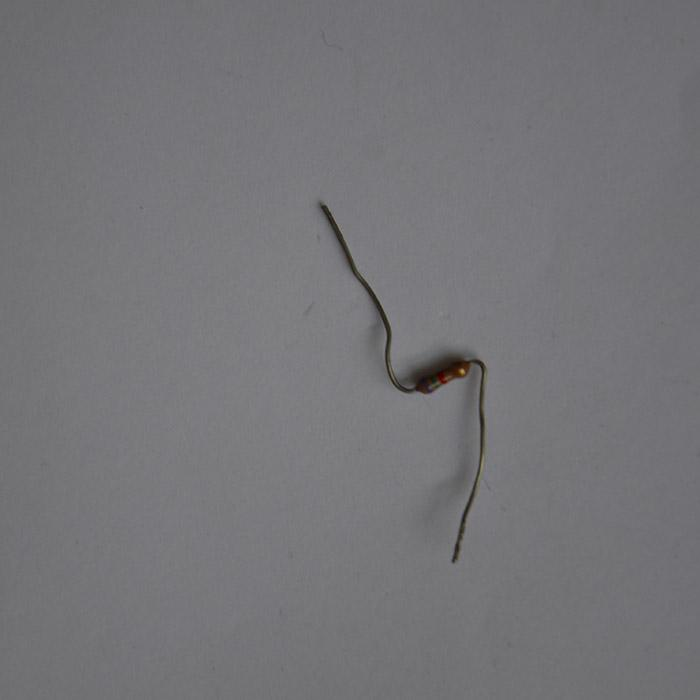resistor: (416, 359, 471, 395)
